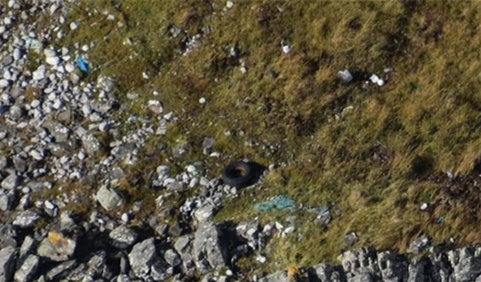net: (253, 190, 331, 218)
scattered_barrel: (274, 37, 399, 92)
white_in_green: (207, 141, 273, 201), (63, 47, 104, 83)
